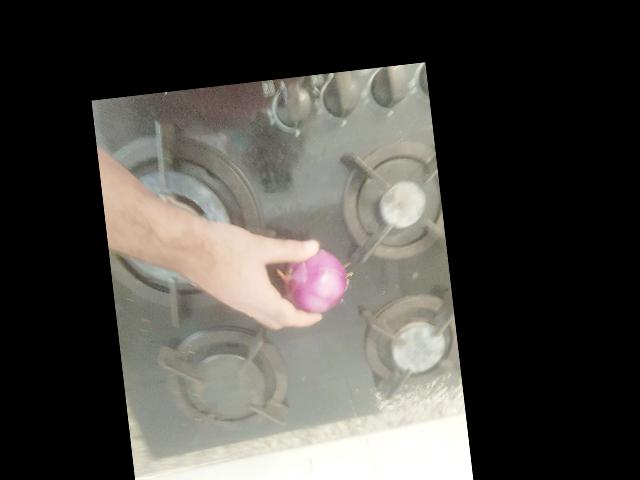onion: (339, 348, 403, 409)
